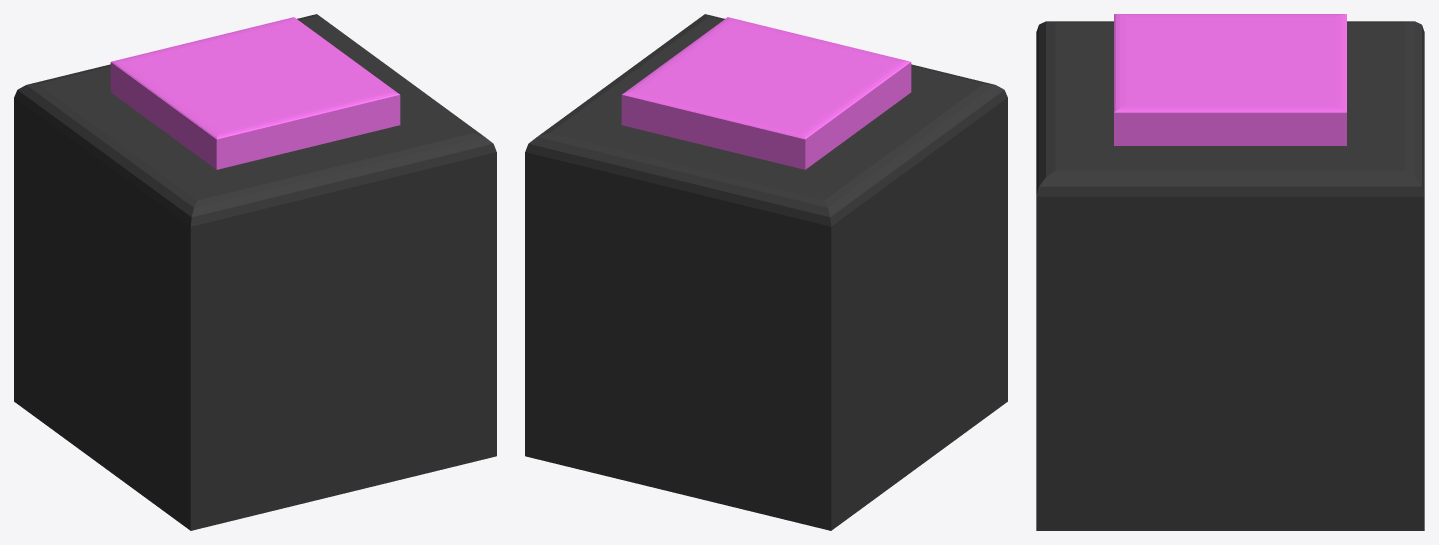
The model's file is block_button_square.fbx.
3 views of the same model, side by side, from view 1: azimuth 30°, elevation 25°; view 2: azimuth 150°, elevation 25°; view 3: azimuth 270°, elevation 25° (orthographic). The views are drawn at different scales.
Parts seen in each view (by area): view 1: Cube, Cube.001; view 2: Cube, Cube.001; view 3: Cube, Cube.001.
Boxes of the visible parts, x1=… form: Cube: x1=14, y1=14, x2=496, y2=530; Cube.001: x1=110, y1=17, x2=400, y2=169; Cube: x1=525, y1=14, x2=1007, y2=530; Cube.001: x1=621, y1=17, x2=911, y2=169; Cube: x1=1036, y1=21, x2=1424, y2=530; Cube.001: x1=1114, y1=14, x2=1346, y2=145.
Size of the model in its own units: 200 by 220 by 200.
